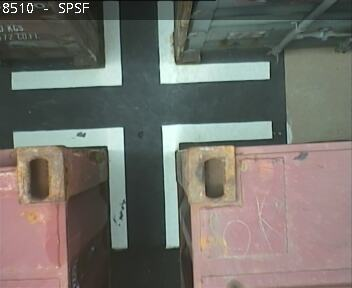groundmarker_1: (14, 119, 271, 247), (10, 1, 268, 89)
